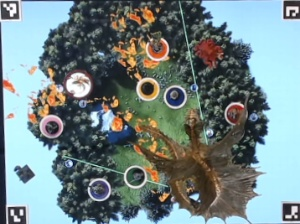blue: (162, 82, 189, 111)
green: (121, 162, 148, 189)
orange: (145, 35, 169, 62)
pink: (34, 111, 66, 140)
red: (224, 99, 251, 128)
violet: (85, 175, 113, 200)
yellow: (132, 75, 161, 100)
